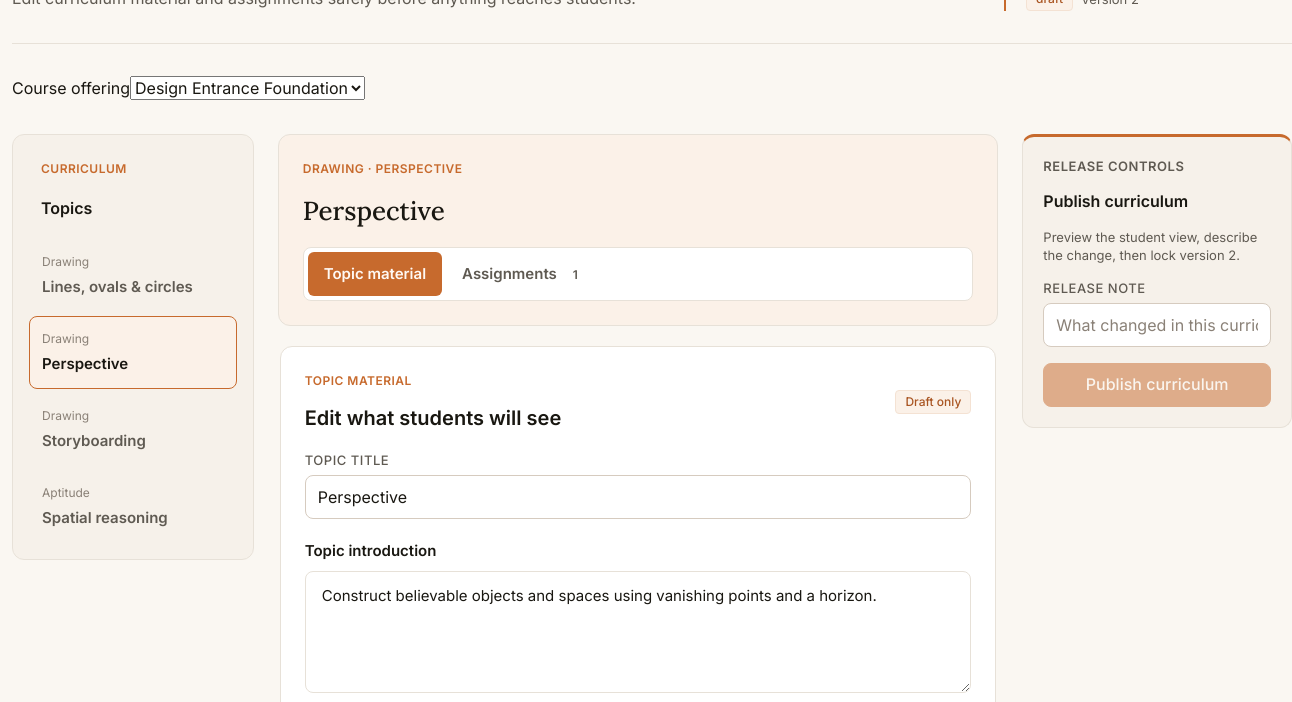
Test case: ContentWorkspacePage › shows assignment instructions, evaluation guide, private file policy, and publication control
The image size is (1292, 702).
Click the tab "Assignments 1" at point(524, 274), box [446,252,602,296]
(page scrolled)
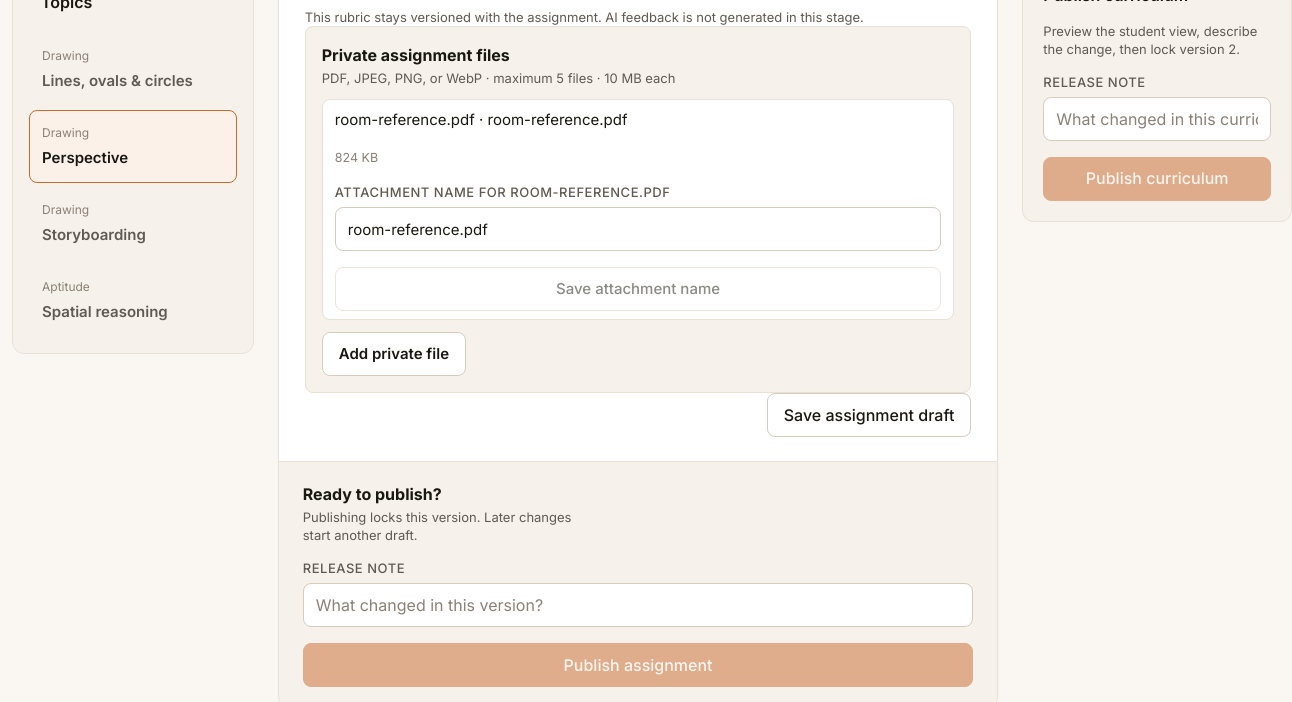
Expected: the text "PDF, JPEG, PNG, or WebP · maximum 5 files · 10 MB each" is shown, [322,70,676,86]
Expected: the button "Publish assignment" is disabled, [303,643,973,687]
